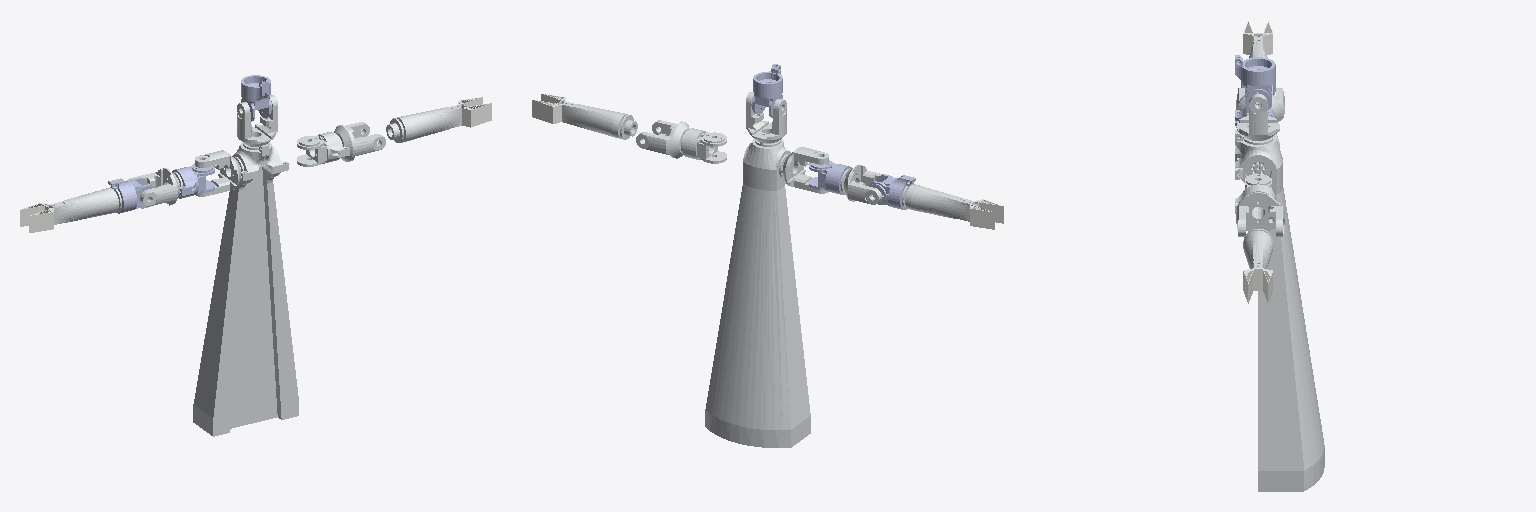
--- Facts derived from the render (not from the file) ---
The picture shows the robot from 3 angles, left to right: view 1: azimuth 30°, elevation 25°; view 2: azimuth 150°, elevation 25°; view 3: azimuth 270°, elevation 25°; orthographic projection.
Model monkey_robot with 16 links and 15 joints (14 revolute, 1 fixed), rooted at world, posed joints at zero except 2 at the middle of their limits (R_Shoulder_Hor_Joint = 1.57, L_Shoulder_Hor_Joint = -1.57).
Visible links, largest first — view 1: base_link, R_Lower_Forearm_Link, L_Lower_Forearm_Link, Neck_Hor_Rot_Link, R_Upper_Biceps_Link, L_Shoulder_Link, L_Lower_Biceps_Link, R_Lower_Biceps_Link, Neck_Fro_Rot_Link, L_Upper_Biceps_Link, L_Upper_Forearm_Link, L_Hand_Link (+1 smaller); view 2: base_link, R_Lower_Forearm_Link, L_Lower_Forearm_Link, Neck_Hor_Rot_Link, R_Lower_Biceps_Link, L_Shoulder_Link, R_Upper_Biceps_Link, L_Lower_Biceps_Link, Neck_Fro_Rot_Link, L_Upper_Forearm_Link, L_Upper_Biceps_Link, L_Hand_Link (+1 smaller); view 3: base_link, R_Lower_Biceps_Link, Neck_Fro_Rot_Link, Neck_Hor_Rot_Link, R_Lower_Forearm_Link, R_Hand_Link, R_Upper_Biceps_Link, L_Hand_Link.
Link boxes in pixels (bbox=[...]): base_link: bbox=[193, 142, 298, 436]; R_Lower_Forearm_Link: bbox=[386, 105, 461, 142]; L_Lower_Forearm_Link: bbox=[50, 187, 121, 224]; Neck_Hor_Rot_Link: bbox=[237, 95, 277, 149]; R_Upper_Biceps_Link: bbox=[297, 132, 349, 166]; L_Shoulder_Link: bbox=[195, 150, 243, 196]; L_Lower_Biceps_Link: bbox=[127, 168, 182, 206]; R_Lower_Biceps_Link: bbox=[334, 122, 385, 161]; Neck_Fro_Rot_Link: bbox=[241, 75, 272, 121]; L_Upper_Biceps_Link: bbox=[172, 163, 214, 198]; L_Upper_Forearm_Link: bbox=[108, 177, 154, 213]; L_Hand_Link: bbox=[20, 203, 53, 232]; base_link: bbox=[705, 139, 810, 447]; R_Lower_Forearm_Link: bbox=[562, 102, 637, 139]; L_Lower_Forearm_Link: bbox=[902, 184, 973, 221]; Neck_Hor_Rot_Link: bbox=[746, 92, 786, 146]; R_Lower_Biceps_Link: bbox=[636, 120, 689, 158]; L_Shoulder_Link: bbox=[779, 147, 828, 193]; R_Upper_Biceps_Link: bbox=[682, 128, 726, 163]; L_Lower_Biceps_Link: bbox=[840, 165, 881, 204]; Neck_Fro_Rot_Link: bbox=[751, 64, 782, 117]; L_Upper_Forearm_Link: bbox=[868, 174, 915, 209]; L_Upper_Biceps_Link: bbox=[809, 160, 851, 194]; L_Hand_Link: bbox=[970, 199, 1003, 229]; base_link: bbox=[1235, 130, 1324, 491]; R_Lower_Biceps_Link: bbox=[1236, 192, 1284, 236]; Neck_Fro_Rot_Link: bbox=[1235, 55, 1275, 109]; Neck_Hor_Rot_Link: bbox=[1236, 94, 1279, 144]; R_Lower_Forearm_Link: bbox=[1243, 229, 1272, 268]; R_Hand_Link: bbox=[1243, 268, 1272, 303]; R_Upper_Biceps_Link: bbox=[1235, 174, 1275, 213]; L_Hand_Link: bbox=[1243, 21, 1272, 54].
Size in the robot's own frame: 0.2703 by 0.0388 by 0.1963 metres.
Meshes: 15 distinct files referenced, 13 mesh visuals loaded (13 binary STL); not drawn: 2 (reference not matched to a file when rendering).

The robot description file, URDF, robot "monkey_robot":
<?xml version="1.0" encoding="utf-8" ?>
<!-- This URDF was automatically created by SolidWorks to URDF Exporter! Originally created by Stephen Brawner ([email redacted]) 
     Commit Version: 1.6.0-4-g7f85cfe  Build Version: 1.6.7995.38578
     For more information, please see http://wiki.ros.org/sw_urdf_exporter -->
<robot name="monkey_robot">
    <link name="world" />
    <joint name="world_to_base_link=" type="fixed">
    	<parent link="world"/>
        <child link="base_link"/>
    </joint>
    <link name="base_link">
        <inertial>
            <origin xyz="6.98705116462124E-09 0.00128521070466461 0.0520295656440773" rpy="0 0 0" />
            <mass value="0.0883290373372722" />
            <inertia ixx="0.000141144717037961" ixy="1.04477581076833E-10" ixz="-4.83096664544425E-10" iyy="0.000149270696736634" iyz="1.02449244706016E-05" izz="1.58173066485521E-05" />
        </inertial>
        <visual>
            <origin xyz="0 0 0" rpy="0 0 0" />
            <geometry>
                <mesh filename="package://monkey_complete/meshes/base_link.STL" />
            </geometry>
            <material name="">
                <color rgba="0.898039215686275 0.917647058823529 0.929411764705882 1" />
            </material>
        </visual>
        <collision>
            <origin xyz="0 0 0" rpy="0 0 0" />
            <geometry>
                <mesh filename="package://monkey_complete/meshes/base_link_Collision.STL" />
            </geometry>
        </collision>
    </link>
    <link name="Neck_Hor_Rot_Link">
        <inertial>
            <origin xyz="0.000669560657733764 7.22824268208945E-06 0.0123704106831974" rpy="0 0 0" />
            <mass value="0.00224204689024492" />
            <inertia ixx="1.20382101087139E-07" ixy="9.93082482397873E-12" ixz="-6.05039637813109E-09" iyy="1.91214842358204E-07" iyz="1.18376847836872E-10" izz="1.22105776114293E-07" />
        </inertial>
        <visual>
            <origin xyz="0 0 0" rpy="0 0 0" />
            <geometry>
                <mesh filename="package://monkey_complete/meshes/Neck_Hor_Rot_Link.STL" />
            </geometry>
            <material name="">
                <color rgba="0.898039215686275 0.917647058823529 0.929411764705882 1" />
            </material>
        </visual>
        <collision>
            <origin xyz="0 0 0" rpy="0 0 0" />
            <geometry>
                <mesh filename="package://monkey_complete/meshes/Neck_Hor_Rot_Link_Collision.STL" />
            </geometry>
        </collision>
    </link>
    <joint name="Neck_Hor_Rot_Joint" type="revolute">
        <origin xyz="0 -0.01 0.1538" rpy="0 0 0" />
        <parent link="base_link" />
        <child link="Neck_Hor_Rot_Link" />
        <axis xyz="0 0 1" />
        <limit lower="-1.571" upper="1.571" effort="1" velocity="1" />
    </joint>
    <link name="Neck_Fro_Rot_Link">
        <inertial>
            <origin xyz="0.000242400751746984 -0.0003800741587503 0.00633594131736323" rpy="0 0 0" />
            <mass value="0.00176240827004742" />
            <inertia ixx="7.60273983420826E-08" ixy="-1.62368191193238E-10" ixz="3.18161828212279E-09" iyy="7.41393158959736E-08" iyz="4.96038484363031E-09" izz="6.14795776087857E-08" />
        </inertial>
        <visual>
            <origin xyz="0 0 0" rpy="0 0 0" />
            <geometry>
                <mesh filename="package://monkey_complete/meshes/Neck_Fro_Rot_Link.STL" />
            </geometry>
            <material name="">
                <color rgba="0.792156862745098 0.819607843137255 0.933333333333333 1" />
            </material>
        </visual>
        <collision>
            <origin xyz="0 0 0" rpy="0 0 0" />
            <geometry>
                <mesh filename="package://monkey_complete/meshes/Neck_Fro_Rot_Link_Collision.STL" />
            </geometry>
        </collision>
    </link>
    <joint name="Neck_Fro_Rot_Joint" type="revolute">
        <origin xyz="0 0 0.0245" rpy="0 0 0" />
        <parent link="Neck_Hor_Rot_Link" />
        <child link="Neck_Fro_Rot_Link" />
        <axis xyz="1 0 0" />
        <limit lower="-1.571" upper="0.5236" effort="1" velocity="1" />
    </joint>
    <link name="R_Shoulder_Link">
        <inertial>
            <origin xyz="0.0123586237459188 5.88234091172292E-06 0.000668461177534746" rpy="0 0 0" />
            <mass value="0.00224572738283052" />
            <inertia ixx="1.22180940017793E-07" ixy="9.83615637905777E-11" ixz="-6.0681033743057E-09" iyy="1.91407988045122E-07" iyz="9.78041242293808E-12" izz="1.20646424838584E-07" />
        </inertial>
        <visual>
            <origin xyz="0 0 0" rpy="0 0 0" />
            <geometry>
                <mesh filename="package://monkey_complete/meshes/R_Shoulder_Link.STL" />
            </geometry>
            <material name="">
                <color rgba="0.898039215686275 0.917647058823529 0.929411764705882 1" />
            </material>
        </visual>
        <collision>
            <origin xyz="0 0 0" rpy="0 0 0" />
            <geometry>
                <mesh filename="package://monkey_complete/meshes/R_Shoulder_Link_Collision.STL" />
            </geometry>
        </collision>
    </link>
    <joint name="R_Shoulder_Fro_Rot_Joint" type="revolute">
        <origin xyz="0.0068 -0.01 0.146" rpy="0 0 0" />
        <parent link="base_link" />
        <child link="R_Shoulder_Link" />
        <axis xyz="1 0 0" />
        <limit lower="-1.571" upper="1.1763" effort="1" velocity="1" />
    </joint>
    <link name="R_Upper_Biceps_Link">
        <inertial>
            <origin xyz="0.00633593253994472 -0.000380029862493877 0.000240976983574254" rpy="0 0 0" />
            <mass value="0.00176193451259821" />
            <inertia ixx="6.1462803572227E-08" ixy="4.95966166731548E-09" ixz="3.18113676416E-09" iyy="7.41244544868285E-08" iyz="-1.61160868537095E-10" izz="7.60250325403049E-08" />
        </inertial>
        <visual>
            <origin xyz="0 0 0" rpy="0 0 0" />
            <geometry>
                <mesh filename="package://monkey_complete/meshes/R_Upper_Biceps_Link.STL" />
            </geometry>
            <material name="">
                <color rgba="0.898039215686275 0.917647058823529 0.929411764705882 1" />
            </material>
        </visual>
        <collision>
            <origin xyz="0 0 0" rpy="0 0 0" />
            <geometry>
                <mesh filename="package://monkey_complete/meshes/R_Upper_Biceps_Link_Collision.STL" />
            </geometry>
        </collision>
    </link>
    <joint name="R_Shoulder_Lat_Joint" type="revolute">
        <origin xyz="0.0245 0 0" rpy="0 0 0" />
        <parent link="R_Shoulder_Link" />
        <child link="R_Upper_Biceps_Link" />
        <axis xyz="0 0 1" />
        <limit lower="-1.1339" upper="1.571" effort="1" velocity="1" />
    </joint>
    <link name="R_Lower_Biceps_Link">
        <inertial>
            <origin xyz="0.0123586237459188 5.88234091172118E-06 0.000668461177534718" rpy="0 0 0" />
            <mass value="0.00224572738283052" />
            <inertia ixx="1.22180940017793E-07" ixy="9.83615637905792E-11" ixz="-6.06810337430573E-09" iyy="1.91407988045122E-07" iyz="9.78041242294498E-12" izz="1.20646424838584E-07" />
        </inertial>
        <visual>
            <origin xyz="0 0 0" rpy="0 0 0" />
            <geometry>
                <mesh filename="package://monkey_complete/meshes/R_Lower_Biceps_Link.STL" />
            </geometry>
            <material name="">
                <color rgba="0.898039215686275 0.917647058823529 0.929411764705882 1" />
            </material>
        </visual>
        <collision>
            <origin xyz="0 0 0" rpy="0 0 0" />
            <geometry>
                <mesh filename="package://monkey_complete/meshes/R_Lower_Biceps_Link_Collision.STL" />
            </geometry>
        </collision>
    </link>
    <joint name="R_Shoulder_Hor_Joint" type="revolute">
        <origin xyz="0.0113 0 0" rpy="0 0 0" />
        <parent link="R_Upper_Biceps_Link" />
        <child link="R_Lower_Biceps_Link" />
        <axis xyz="-1 0 0" />
        <limit lower="1.571" upper="1.571" effort="1" velocity="1" />
    </joint>
    <link name="R_Upper_Forearm_Link">
        <inertial>
            <origin xyz="0.00633593253994474 -0.000380029862493868 0.000240976983574254" rpy="0 0 0" />
            <mass value="0.00176193451259821" />
            <inertia ixx="6.14628035722269E-08" ixy="4.95966166731538E-09" ixz="3.18113676415999E-09" iyy="7.41244544868284E-08" iyz="-1.61160868537073E-10" izz="7.60250325403048E-08" />
        </inertial>
        <visual>
            <origin xyz="0 0 0" rpy="0 0 0" />
            <geometry>
                <mesh filename="package://monkey_complete/meshes/R_Upper_Forearm_Link.STL" />
            </geometry>
            <material name="">
                <color rgba="0.898039215686275 0.917647058823529 0.929411764705882 1" />
            </material>
        </visual>
        <collision>
            <origin xyz="0 0 0" rpy="0 0 0" />
            <geometry>
                <mesh filename="package://monkey_complete/meshes/R_Upper_Forearm_Link_Collision.STL" />
            </geometry>
        </collision>
    </link>
    <joint name="R_Ellbow_Joint" type="revolute">
        <origin xyz="0.0245 0 0" rpy="0 0 0" />
        <parent link="R_Lower_Biceps_Link" />
        <child link="R_Upper_Forearm_Link" />
        <axis xyz="0 0 1" />
        <limit lower="-1.571" upper="0" effort="1" velocity="1" />
    </joint>
    <link name="R_Lower_Forearm_Link">
        <inertial>
            <origin xyz="0.0181791115365802 3.86331336988538E-06 3.0734476075267E-10" rpy="0 0 0" />
            <mass value="0.00284451273420116" />
            <inertia ixx="5.2909125053046E-08" ixy="1.44891782874779E-10" ixz="1.11130672919831E-14" iyy="3.41437201417628E-07" iyz="-3.22420388844467E-12" izz="3.50072065949411E-07" />
        </inertial>
        <visual>
            <origin xyz="0 0 0" rpy="0 0 0" />
            <geometry>
                <mesh filename="package://monkey_complete/meshes/R_Lower_Forearm_Link.STL" />
            </geometry>
            <material name="">
                <color rgba="0.898039215686275 0.917647058823529 0.929411764705882 1" />
            </material>
        </visual>
        <collision>
            <origin xyz="0 0 0" rpy="0 0 0" />
            <geometry>
                <mesh filename="package://monkey_complete/meshes/R_Lower_Forearm_Link_Collision.STL" />
            </geometry>
        </collision>
    </link>
    <joint name="R_Wrist_Joint" type="revolute">
        <origin xyz="0.0113 0 0" rpy="0 0 0" />
        <parent link="R_Upper_Forearm_Link" />
        <child link="R_Lower_Forearm_Link" />
        <axis xyz="-1 0 0" />
        <limit lower="-1.571" upper="1.571" effort="1" velocity="1" />
    </joint>
    <link name="R_Hand_Link">
        <inertial>
            <origin xyz="0.00517379971053598 -1.07552855510562E-16 5.16598492172893E-06" rpy="0 0 0" />
            <mass value="0.000391365166607116" />
            <inertia ixx="8.7659672148119E-09" ixy="-2.93517383296693E-23" ixz="-5.78530674195544E-14" iyy="1.02180301675885E-08" iyz="1.14288950260982E-22" izz="7.65735342992188E-09" />
        </inertial>
        <visual>
            <origin xyz="0 0 0" rpy="0 0 0" />
            <geometry>
                <mesh filename="package://monkey_complete/meshes/R_Hand_Link.STL" />
            </geometry>
            <material name="">
                <color rgba="0.964705882352941 0.964705882352941 0.952941176470588 1" />
            </material>
        </visual>
        <collision>
            <origin xyz="0 0 0" rpy="0 0 0" />
            <geometry>
                <mesh filename="package://monkey_complete/meshes/R_Hand_Link_Collision.STL" />
            </geometry>
        </collision>
    </link>
    <joint name="R_Hand_Joint" type="revolute">
        <origin xyz="0.041 0 0" rpy="0 0 0" />
        <parent link="R_Lower_Forearm_Link" />
        <child link="R_Hand_Link" />
        <axis xyz="-1 0 0" />
        <limit lower="0" upper="0" effort="0" velocity="0" />
    </joint>
    <link name="L_Shoulder_Link">
        <inertial>
            <origin xyz="-0.0123704106831975 7.22824268199231E-06 0.000669560657733603" rpy="0 0 0" />
            <mass value="0.00224204689024492" />
            <inertia ixx="1.22105776114293E-07" ixy="-1.18376847837409E-10" ixz="6.05039637813105E-09" iyy="1.91214842358204E-07" iyz="9.93082482451719E-12" izz="1.20382101087139E-07" />
        </inertial>
        <visual>
            <origin xyz="0 0 0" rpy="0 0 0" />
            <geometry>
                <mesh filename="package://monkey_complete/meshes/L_Shoulder_Link.STL" />
            </geometry>
            <material name="">
                <color rgba="0.898039215686275 0.917647058823529 0.929411764705882 1" />
            </material>
        </visual>
        <collision>
            <origin xyz="0 0 0" rpy="0 0 0" />
            <geometry>
                <mesh filename="package://monkey_complete/meshes/L_Shoulder_Link_Collision.STL" />
            </geometry>
        </collision>
    </link>
    <joint name="L_Shoulder_Fro_Joint" type="revolute">
        <origin xyz="-0.0068 -0.01 0.146" rpy="0 0 0" />
        <parent link="base_link" />
        <child link="L_Shoulder_Link" />
        <axis xyz="1 0 0" />
        <limit lower="-1.571" upper="1.0922" effort="1" velocity="1" />
    </joint>
    <link name="L_Upper_Biceps_Link">
        <inertial>
            <origin xyz="-0.00633594131736319 -0.000380074158750071 0.000242400751746974" rpy="0 0 0" />
            <mass value="0.00176240827004743" />
            <inertia ixx="6.14795776087858E-08" ixy="-4.96038484363035E-09" ixz="-3.18161828212294E-09" iyy="7.41393158959736E-08" iyz="-1.62368191193327E-10" izz="7.60273983420826E-08" />
        </inertial>
        <visual>
            <origin xyz="0 0 0" rpy="0 0 0" />
            <geometry>
                <mesh filename="package://monkey_complete/meshes/L_Upper_Biceps_Link.STL" />
            </geometry>
            <material name="">
                <color rgba="0.792156862745098 0.819607843137255 0.933333333333333 1" />
            </material>
        </visual>
        <collision>
            <origin xyz="0 0 0" rpy="0 0 0" />
            <geometry>
                <mesh filename="package://monkey_complete/meshes/L_Upper_Biceps_Link_Collision.STL" />
            </geometry>
        </collision>
    </link>
    <joint name="L_Shoulder_Lat_Joint" type="revolute">
        <origin xyz="-0.0245 0 0" rpy="0 0 0" />
        <parent link="L_Shoulder_Link" />
        <child link="L_Upper_Biceps_Link" />
        <axis xyz="0 0 1" />
        <limit lower="-1.5" upper="1.4616" effort="1" velocity="1" />
    </joint>
    <link name="L_Lower_Biceps_Link">
        <inertial>
            <origin xyz="-0.0123704106831975 7.22824268199578E-06 0.000669560657733603" rpy="0 0 0" />
            <mass value="0.00224204689024492" />
            <inertia ixx="1.22105776114293E-07" ixy="-1.1837684783739E-10" ixz="6.05039637813108E-09" iyy="1.91214842358204E-07" iyz="9.9308248244927E-12" izz="1.20382101087139E-07" />
        </inertial>
        <visual>
            <origin xyz="0 0 0" rpy="0 0 0" />
            <geometry>
                <mesh filename="package://monkey_complete/meshes/L_Lower_Biceps_Link.STL" />
            </geometry>
            <material name="">
                <color rgba="0.898039215686275 0.917647058823529 0.929411764705882 1" />
            </material>
        </visual>
        <collision>
            <origin xyz="0 0 0" rpy="0 0 0" />
            <geometry>
                <mesh filename="package://monkey_complete/meshes/L_Lower_Biceps_Link_Collision.STL" />
            </geometry>
        </collision>
    </link>
    <joint name="L_Shoulder_Hor_Joint" type="revolute">
        <origin xyz="-0.0113 0 0" rpy="0 0 0" />
        <parent link="L_Upper_Biceps_Link" />
        <child link="L_Lower_Biceps_Link" />
        <axis xyz="1 0 0" />
        <limit lower="-1.571" upper="-1.571" effort="1" velocity="1" />
    </joint>
    <link name="L_Upper_Forearm_Link">
        <inertial>
            <origin xyz="-0.00633594131736322 -0.000380074158750361 0.000242400751746974" rpy="0 0 0" />
            <mass value="0.00176240827004743" />
            <inertia ixx="6.1479577608786E-08" ixy="-4.96038484363041E-09" ixz="-3.18161828212292E-09" iyy="7.41393158959737E-08" iyz="-1.62368191193308E-10" izz="7.60273983420828E-08" />
        </inertial>
        <visual>
            <origin xyz="0 0 0" rpy="0 0 0" />
            <geometry>
                <mesh filename="package://monkey_complete/meshes/L_Upper_Forearm_Link.STL" />
            </geometry>
            <material name="">
                <color rgba="0.792156862745098 0.819607843137255 0.933333333333333 1" />
            </material>
        </visual>
        <collision>
            <origin xyz="0 0 0" rpy="0 0 0" />
            <geometry>
                <mesh filename="package://monkey_complete/meshes/L_Upper_Forearm_Link_Collision.STL" />
            </geometry>
        </collision>
    </link>
    <joint name="L_Ellbow_Joint" type="revolute">
        <origin xyz="-0.0245 0 0" rpy="0 0 0" />
        <parent link="L_Lower_Biceps_Link" />
        <child link="L_Upper_Forearm_Link" />
        <axis xyz="0 0 1" />
        <limit lower="0" upper="1.571" effort="1" velocity="1" />
    </joint>
    <link name="L_Lower_Forearm_Link">
        <inertial>
            <origin xyz="-0.0181791115365802 3.86331336975181E-06 -3.0734476075267E-10" rpy="0 0 0" />
            <mass value="0.00284451273420116" />
            <inertia ixx="5.29091250530459E-08" ixy="-1.44891782876658E-10" ixz="1.11130673562182E-14" iyy="3.41437201417627E-07" iyz="3.22420388838765E-12" izz="3.5007206594941E-07" />
        </inertial>
        <visual>
            <origin xyz="0 0 0" rpy="0 0 0" />
            <geometry>
                <mesh filename="package://monkey_complete/meshes/L_Lower_Forearm_Link.STL" />
            </geometry>
            <material name="">
                <color rgba="0.898039215686275 0.917647058823529 0.929411764705882 1" />
            </material>
        </visual>
        <collision>
            <origin xyz="0 0 0" rpy="0 0 0" />
            <geometry>
                <mesh filename="package://monkey_complete/meshes/L_Lower_Forearm_Link_Collision.STL" />
            </geometry>
        </collision>
    </link>
    <joint name="L_Wrist_Joint" type="revolute">
        <origin xyz="-0.0113 0 0" rpy="0 0 0" />
        <parent link="L_Upper_Forearm_Link" />
        <child link="L_Lower_Forearm_Link" />
        <axis xyz="1 0 0" />
        <limit lower="-1.0085" upper="1.571" effort="1" velocity="1" />
    </joint>
    <link name="L_Hand_Link">
        <inertial>
            <origin xyz="-0.00517379971053604 1.42247325030098E-16 -5.16598492170117E-06" rpy="0 0 0" />
            <mass value="0.000391365166607116" />
            <inertia ixx="8.7659672148119E-09" ixy="2.48233428681096E-23" ixz="-5.78530674011555E-14" iyy="1.02180301675885E-08" iyz="-1.15427142478364E-22" izz="7.65735342992189E-09" />
        </inertial>
        <visual>
            <origin xyz="0 0 0" rpy="0 0 0" />
            <geometry>
                <mesh filename="package://monkey_complete/meshes/L_Hand_Link.STL" />
            </geometry>
            <material name="">
                <color rgba="0.964705882352941 0.964705882352941 0.952941176470588 1" />
            </material>
        </visual>
        <collision>
            <origin xyz="0 0 0" rpy="0 0 0" />
            <geometry>
                <mesh filename="package://monkey_complete/meshes/L_Hand_Link_Collision.STL" />
            </geometry>
        </collision>
    </link>
    <joint name="L_Hand_Joint" type="revolute">
        <origin xyz="-0.041 0 0" rpy="0 0 0" />
        <parent link="L_Lower_Forearm_Link" />
        <child link="L_Hand_Link" />
        <axis xyz="1 0 0" />
        <limit lower="0" upper="0" effort="0" velocity="0" />
    </joint>
    <transmission name="trans_Neck_Hor_Rot_Joint">
        <type>transmission_interface/SimpleTransmission</type>
        <joint name="Neck_Hor_Rot_Joint">
            <hardwareInterface>hardware_interface/EffortJointInterface</hardwareInterface>
        </joint>
        <actuator name="Neck_Hor_Rot_Joint_motor">
            <hardwareInterface>hardware_interface/EffortJointInterface</hardwareInterface>
            <mechanicalReduction>1</mechanicalReduction>
        </actuator>
    </transmission>
    <transmission name="trans_Neck_Fro_Rot_Joint">
        <type>transmission_interface/SimpleTransmission</type>
        <joint name="Neck_Fro_Rot_Joint">
            <hardwareInterface>hardware_interface/EffortJointInterface</hardwareInterface>
        </joint>
        <actuator name="Neck_Fro_Rot_Joint_motor">
            <hardwareInterface>hardware_interface/EffortJointInterface</hardwareInterface>
            <mechanicalReduction>1</mechanicalReduction>
        </actuator>
    </transmission>
    <transmission name="trans_R_Shoulder_Fro_Rot_Joint">
        <type>transmission_interface/SimpleTransmission</type>
        <joint name="R_Shoulder_Fro_Rot_Joint">
            <hardwareInterface>hardware_interface/EffortJointInterface</hardwareInterface>
        </joint>
        <actuator name="R_Shoulder_Fro_Rot_Joint_motor">
            <hardwareInterface>hardware_interface/EffortJointInterface</hardwareInterface>
            <mechanicalReduction>1</mechanicalReduction>
        </actuator>
    </transmission>
    <transmission name="trans_R_Shoulder_Lat_Joint">
        <type>transmission_interface/SimpleTransmission</type>
        <joint name="R_Shoulder_Lat_Joint">
            <hardwareInterface>hardware_interface/EffortJointInterface</hardwareInterface>
        </joint>
        <actuator name="R_Shoulder_Lat_Joint_motor">
            <hardwareInterface>hardware_interface/EffortJointInterface</hardwareInterface>
            <mechanicalReduction>1</mechanicalReduction>
        </actuator>
    </transmission>
    <transmission name="trans_R_Shoulder_Hor_Joint">
        <type>transmission_interface/SimpleTransmission</type>
        <joint name="R_Shoulder_Hor_Joint">
            <hardwareInterface>hardware_interface/EffortJointInterface</hardwareInterface>
        </joint>
        <actuator name="R_Shoulder_Hor_Joint_motor">
            <hardwareInterface>hardware_interface/EffortJointInterface</hardwareInterface>
            <mechanicalReduction>1</mechanicalReduction>
        </actuator>
    </transmission>
    <transmission name="trans_R_Ellbow_Joint">
        <type>transmission_interface/SimpleTransmission</type>
        <joint name="R_Ellbow_Joint">
            <hardwareInterface>hardware_interface/EffortJointInterface</hardwareInterface>
        </joint>
        <actuator name="R_Ellbow_Joint_motor">
            <hardwareInterface>hardware_interface/EffortJointInterface</hardwareInterface>
            <mechanicalReduction>1</mechanicalReduction>
        </actuator>
    </transmission>
    <transmission name="trans_R_Wrist_Joint">
        <type>transmission_interface/SimpleTransmission</type>
        <joint name="R_Wrist_Joint">
            <hardwareInterface>hardware_interface/EffortJointInterface</hardwareInterface>
        </joint>
        <actuator name="R_Wrist_Joint_motor">
            <hardwareInterface>hardware_interface/EffortJointInterface</hardwareInterface>
            <mechanicalReduction>1</mechanicalReduction>
        </actuator>
    </transmission>
    <transmission name="trans_R_Hand_Joint">
        <type>transmission_interface/SimpleTransmission</type>
        <joint name="R_Hand_Joint">
            <hardwareInterface>hardware_interface/EffortJointInterface</hardwareInterface>
        </joint>
        <actuator name="R_Hand_Joint_motor">
            <hardwareInterface>hardware_interface/EffortJointInterface</hardwareInterface>
            <mechanicalReduction>1</mechanicalReduction>
        </actuator>
    </transmission>
    <transmission name="trans_L_Shoulder_Fro_Joint">
        <type>transmission_interface/SimpleTransmission</type>
        <joint name="L_Shoulder_Fro_Joint">
            <hardwareInterface>hardware_interface/EffortJointInterface</hardwareInterface>
        </joint>
        <actuator name="L_Shoulder_Fro_Joint_motor">
            <hardwareInterface>hardware_interface/EffortJointInterface</hardwareInterface>
            <mechanicalReduction>1</mechanicalReduction>
        </actuator>
    </transmission>
    <transmission name="trans_L_Shoulder_Lat_Joint">
        <type>transmission_interface/SimpleTransmission</type>
        <joint name="L_Shoulder_Lat_Joint">
            <hardwareInterface>hardware_interface/EffortJointInterface</hardwareInterface>
        </joint>
        <actuator name="L_Shoulder_Lat_Joint_motor">
            <hardwareInterface>hardware_interface/EffortJointInterface</hardwareInterface>
            <mechanicalReduction>1</mechanicalReduction>
        </actuator>
    </transmission>
    <transmission name="trans_L_Shoulder_Hor_Joint">
        <type>transmission_interface/SimpleTransmission</type>
        <joint name="L_Shoulder_Hor_Joint">
            <hardwareInterface>hardware_interface/EffortJointInterface</hardwareInterface>
        </joint>
        <actuator name="L_Shoulder_Hor_Joint_motor">
            <hardwareInterface>hardware_interface/EffortJointInterface</hardwareInterface>
            <mechanicalReduction>1</mechanicalReduction>
        </actuator>
    </transmission>
    <transmission name="trans_L_Ellbow_Joint">
        <type>transmission_interface/SimpleTransmission</type>
        <joint name="L_Ellbow_Joint">
            <hardwareInterface>hardware_interface/EffortJointInterface</hardwareInterface>
        </joint>
        <actuator name="L_Ellbow_Joint_motor">
            <hardwareInterface>hardware_interface/EffortJointInterface</hardwareInterface>
            <mechanicalReduction>1</mechanicalReduction>
        </actuator>
    </transmission>
    <transmission name="trans_L_Wrist_Joint">
        <type>transmission_interface/SimpleTransmission</type>
        <joint name="L_Wrist_Joint">
            <hardwareInterface>hardware_interface/EffortJointInterface</hardwareInterface>
        </joint>
        <actuator name="L_Wrist_Joint_motor">
            <hardwareInterface>hardware_interface/EffortJointInterface</hardwareInterface>
            <mechanicalReduction>1</mechanicalReduction>
        </actuator>
    </transmission>
    <transmission name="trans_L_Hand_Joint">
        <type>transmission_interface/SimpleTransmission</type>
        <joint name="L_Hand_Joint">
            <hardwareInterface>hardware_interface/EffortJointInterface</hardwareInterface>
        </joint>
        <actuator name="L_Hand_Joint_motor">
            <hardwareInterface>hardware_interface/EffortJointInterface</hardwareInterface>
            <mechanicalReduction>1</mechanicalReduction>
        </actuator>
    </transmission>
    <gazebo>
        <plugin name="gazebo_ros_control">
            <robotNamespace>/</robotNamespace>
        </plugin>
    </gazebo>
</robot>
